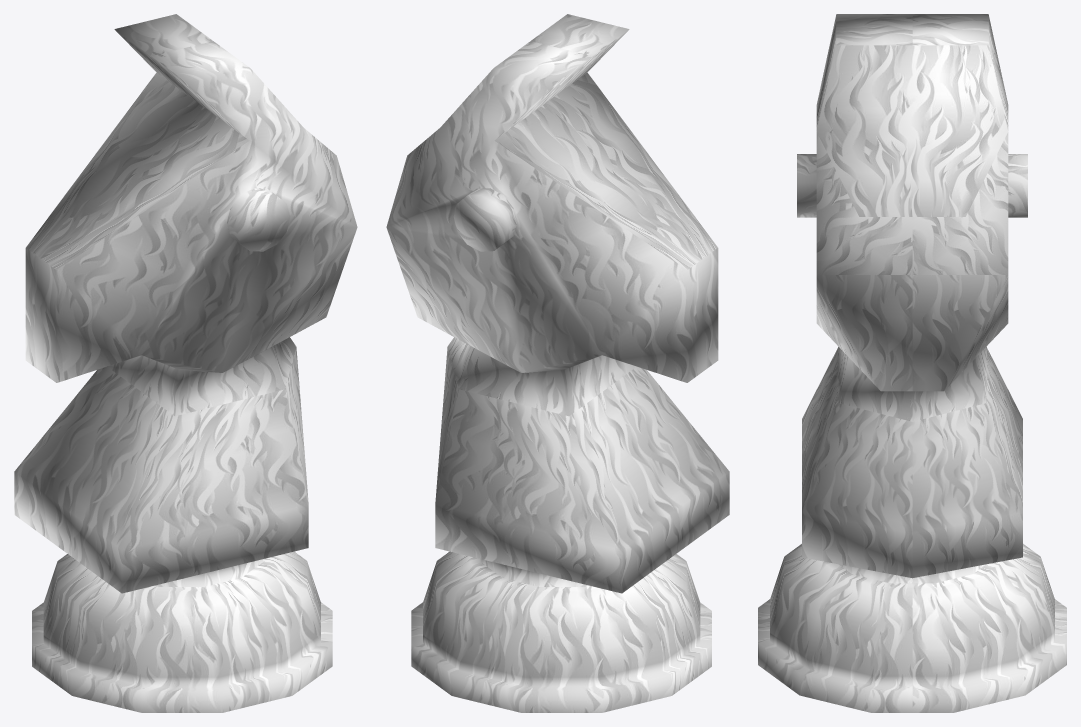
File: Knight.glb
3 renders of one model, left to right at view 1: azimuth 30°, elevation 25°; view 2: azimuth 150°, elevation 25°; view 3: azimuth 270°, elevation 25°, orthographic. The views are drawn at different scales.
Parts seen in each view (by area): view 1: Knight; view 2: Knight; view 3: Knight.
Boxes of the visible parts, x1,y1,x2,y2 form: Knight: (14,14,357,712); Knight: (386,14,729,712); Knight: (758,14,1066,712).
Bounding box in the file's own units: 0.1308 × 0.2767 × 0.1253.
Materials: 1 (1 with a texture image).
